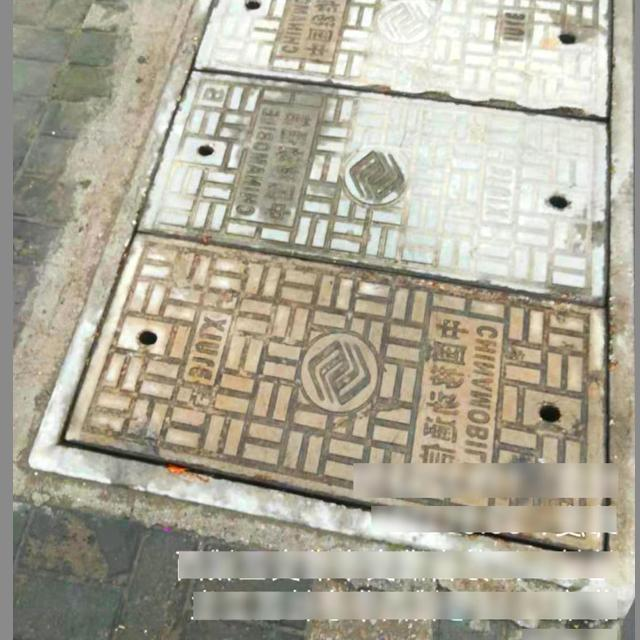good: (24, 0, 633, 617)
